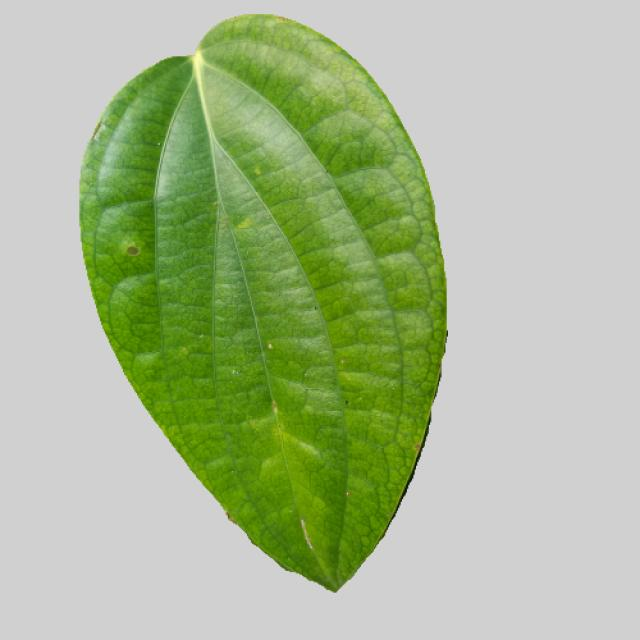healthy: (69, 9, 456, 596)
